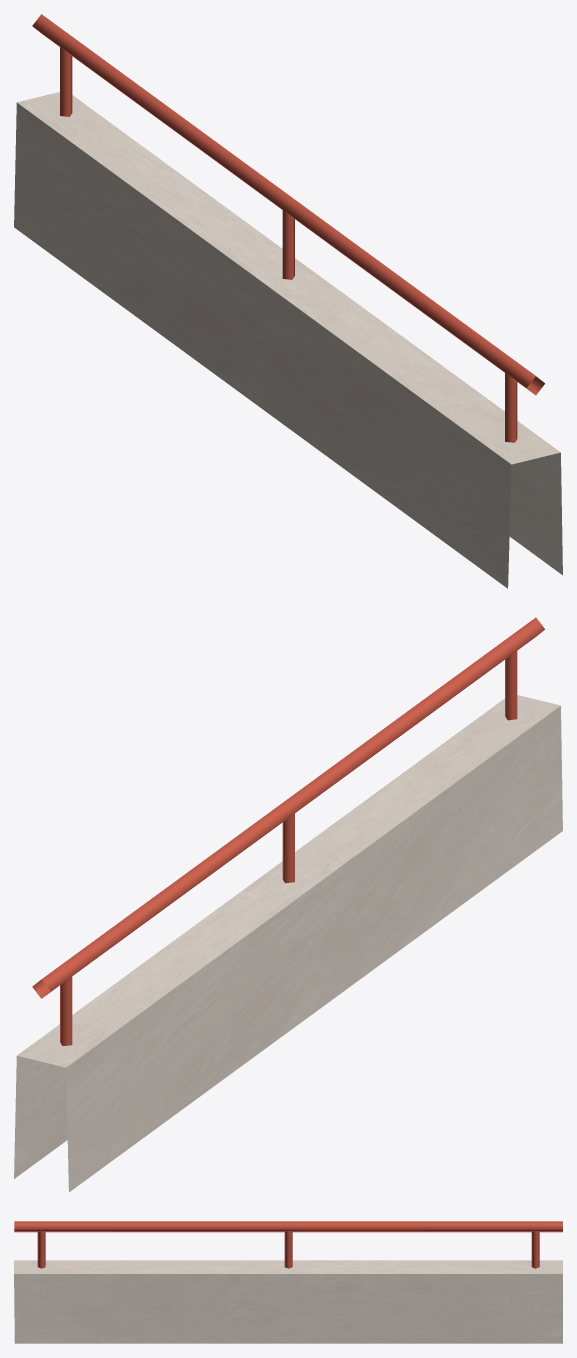
File: SM_ConcreteWall_01.fbx
3 renders of one model, top to bottom at view 1: azimuth 30°, elevation 25°; view 2: azimuth 150°, elevation 25°; view 3: azimuth 270°, elevation 25°, orthographic. The views are drawn at different scales.
Parts seen in each view (by area): view 1: SM_ConcreteWall_01_LOD0; view 2: SM_ConcreteWall_01_LOD0; view 3: SM_ConcreteWall_01_LOD0.
Part boxes in pixels (left/top/right/bottom): SM_ConcreteWall_01_LOD0: left=14, top=14, right=562, bottom=588; SM_ConcreteWall_01_LOD0: left=14, top=617, right=562, bottom=1192; SM_ConcreteWall_01_LOD0: left=14, top=1221, right=562, bottom=1343.
Size of what is drawn, in the model's own units: 0.1282 by 0.461 by 2.
